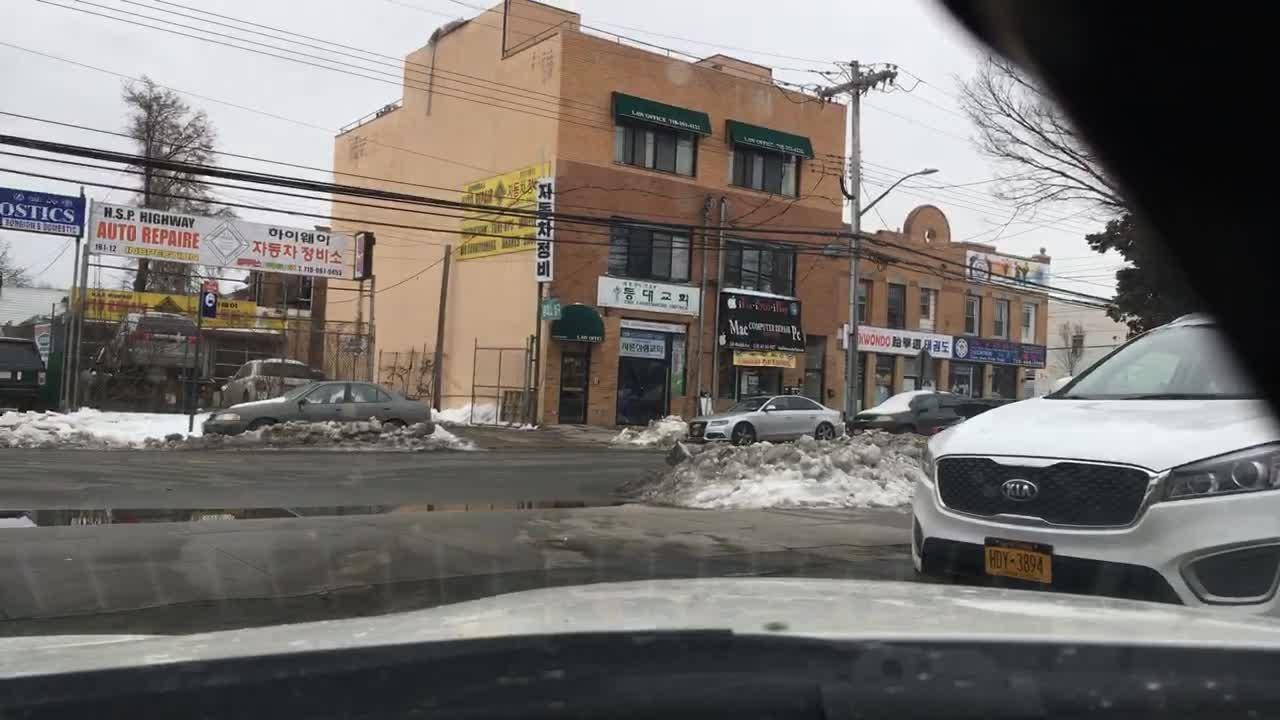kia: (992, 473, 1051, 512)
